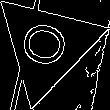O_E: (17, 19, 77, 73)
